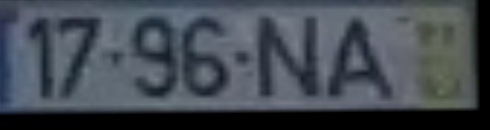1: (24, 13, 58, 107)
6: (179, 11, 237, 104)
7: (55, 15, 108, 107)
9: (127, 12, 184, 104)
A: (322, 14, 403, 106)
N: (255, 13, 327, 106)
